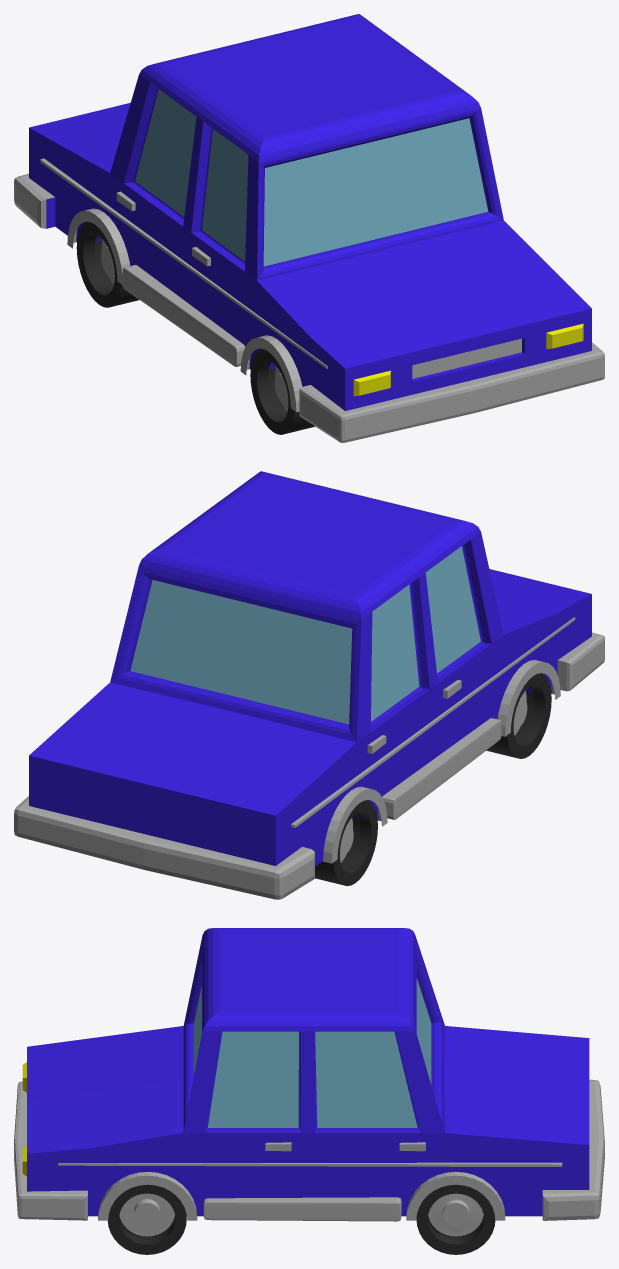
Rendered from Blue_low_poly_car.fbx.
3 views of the same model, one above another, from view 1: azimuth 30°, elevation 25°; view 2: azimuth 150°, elevation 25°; view 3: azimuth 270°, elevation 25° (orthographic). The views are drawn at different scales.
Visible parts, largest first — view 1: Cube, window, Metal, Cylinder, Lights; view 2: Cube, window, Metal, Cylinder; view 3: Cube, Metal, window, Cylinder.
Part boxes in pixels (x1,y1,x2,y2): Cube: (29, 14, 591, 410); window: (135, 89, 488, 266); Metal: (14, 158, 604, 442); Cylinder: (76, 221, 314, 434); Lights: (353, 323, 583, 396); Cube: (29, 471, 591, 866); window: (130, 546, 480, 724); Metal: (14, 617, 604, 899); Cylinder: (315, 673, 551, 886); Cube: (27, 928, 589, 1216); Metal: (14, 1079, 604, 1236); window: (193, 978, 431, 1127); Cylinder: (108, 1184, 495, 1254).
Bounding box in the file's own units: 527 × 468 × 1098.
